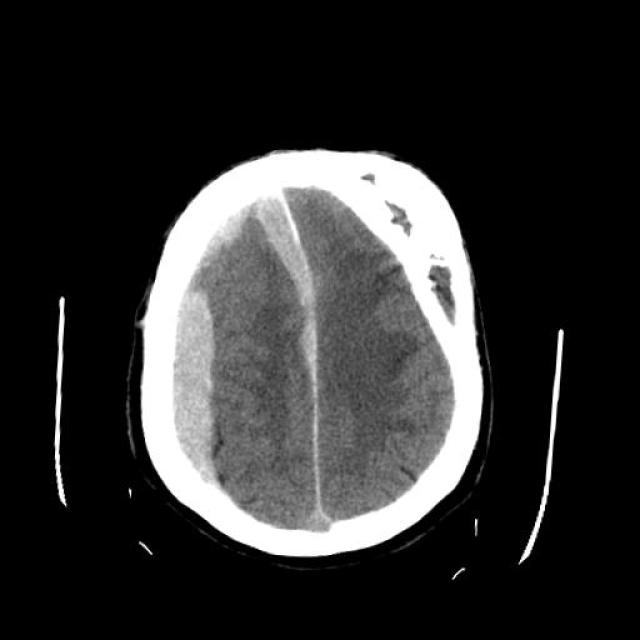Subdural: (145, 279, 245, 521), (245, 170, 350, 380), (188, 165, 254, 276)
